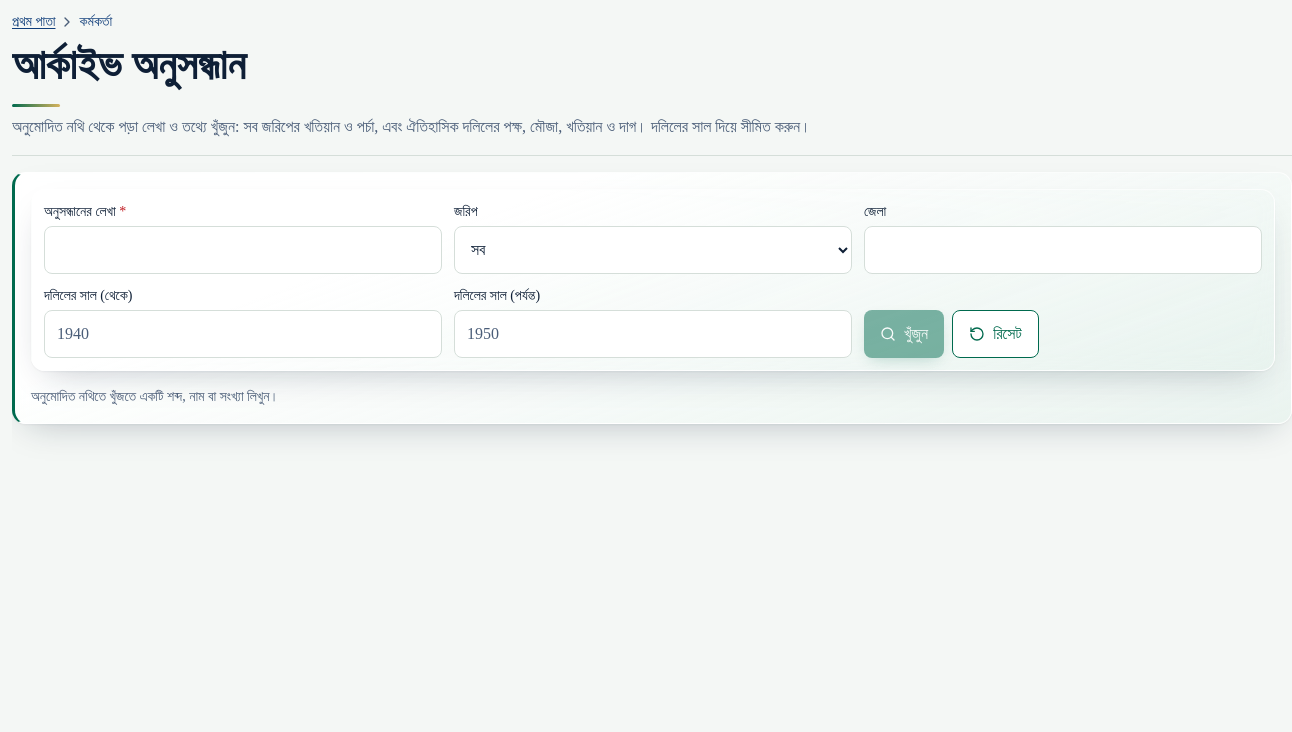
archive search › shows the empty text and renders in Bangla
The image size is (1292, 732).
Type "x" into the field labelled "অনুসন্ধানের লেখা *" at [243, 250], box [44,226,442,274]
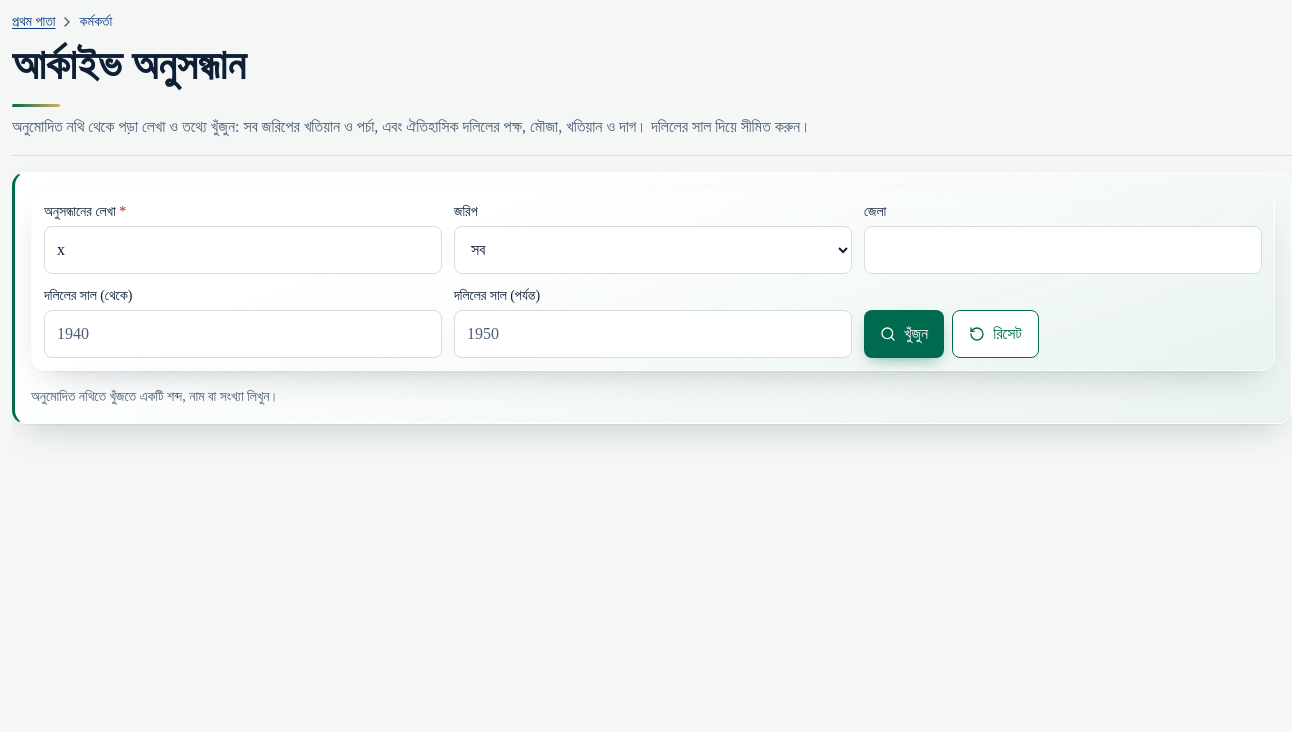
Click the button "খুঁজুন" at [904, 334], box [864,310,944,358]
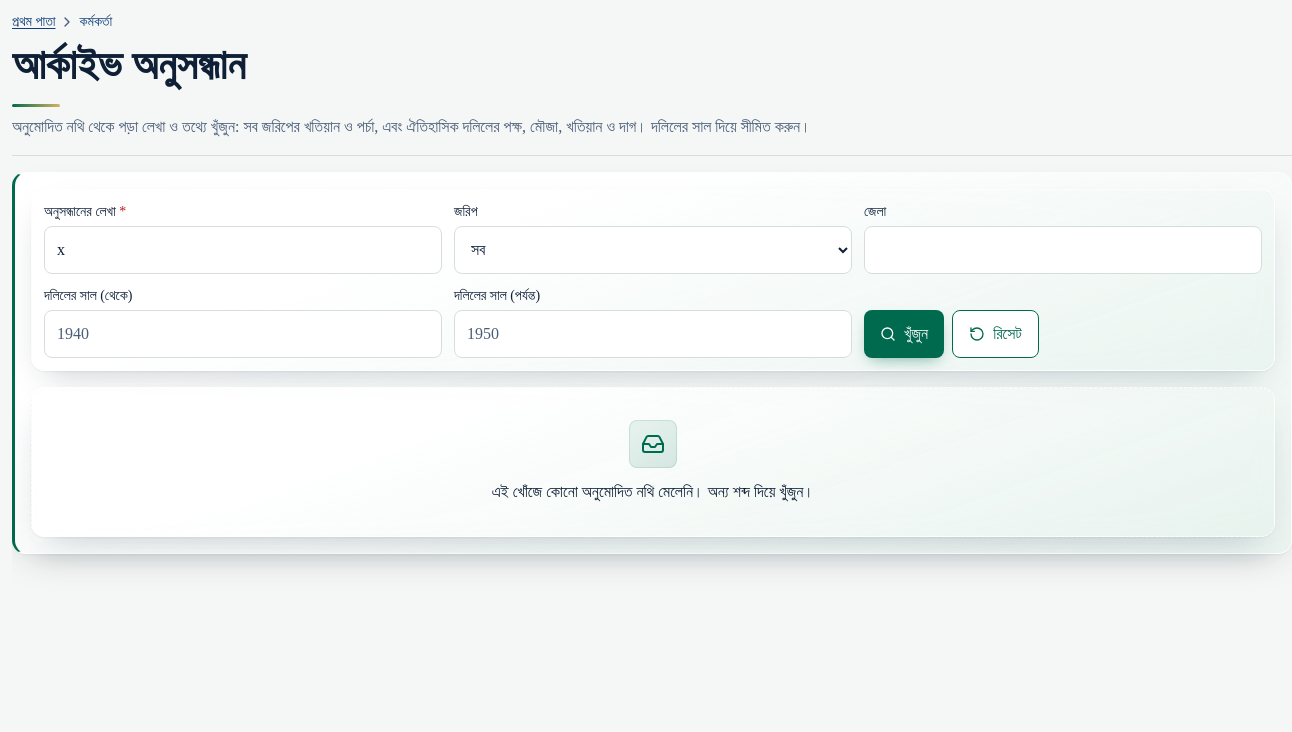
expect the text "এই খোঁজে কোনো অনুমোদিত নথি মেলেনি। অন্য শব্দ দিয়ে খুঁজুন।" is shown: met, box [492,480,814,504]
